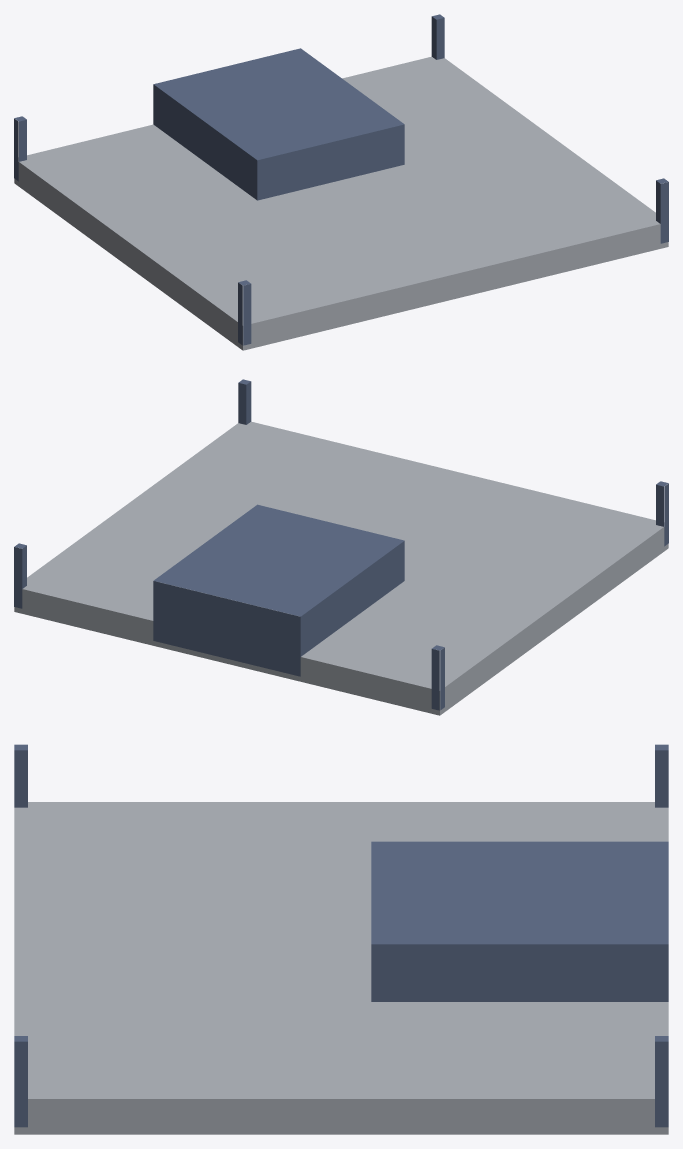
Rendered from office-roof-b.zfix-v11.lod2.glb.
3 views of the same model, one above another, from view 1: azimuth 30°, elevation 25°; view 2: azimuth 150°, elevation 25°; view 3: azimuth 270°, elevation 25° (orthographic). The views are drawn at different scales.
Parts seen in each view (by area): view 1: office-roof-b; view 2: office-roof-b; view 3: office-roof-b.
Boxes of the visible parts, x1=… form: office-roof-b: x1=14, y1=14, x2=668, y2=350; office-roof-b: x1=14, y1=379, x2=668, y2=715; office-roof-b: x1=14, y1=744, x2=668, y2=1134.
Bounding box in the file's own units: 26.03 × 3.8 × 24.23.
